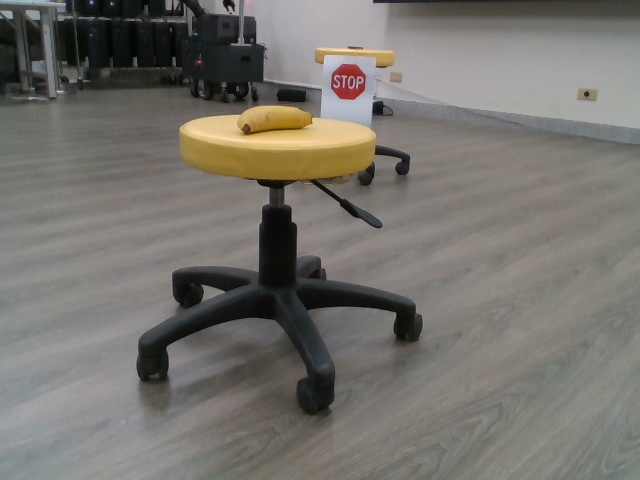banana: (233, 97, 317, 138)
stop: (327, 61, 369, 102)
